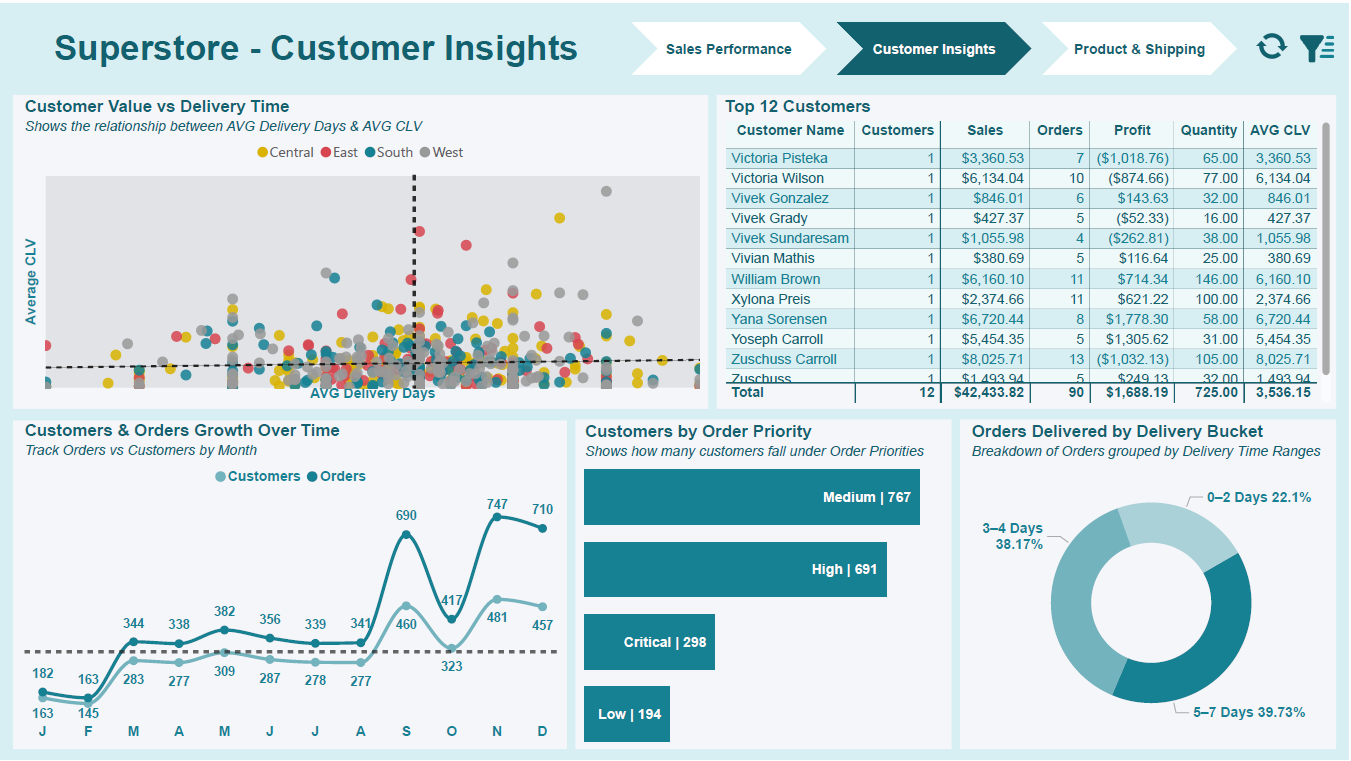

This screenshot's page, from the dashboard's own definition file:
{"tool":"powerbi","page":{"name":"Customer Insights","canvas":[1280,720],"ordinal":1},"visuals":[{"type":"pageNavigator","box":[598.8,17.9,575,50],"z":0},{"type":"shape","box":[13.1,8.3,569.1,69],"z":1000},{"type":"lineChart","title":"Customers & Orders Growth Over Time","fields":{"Y":["DAX.Customers","DAX.Orders"],"Category":["DateTable.Month Name"]},"box":[13.1,395.2,523.8,313.1],"z":2000},{"type":"clusteredBarChart","fields":{"Category":["Global_Superstore.Order Priority"],"Y":["DAX.Customers"]},"box":[545.3,395.5,358.4,312.8],"z":3000},{"type":"donutChart","title":"Orders Delivered by Delivery Bucket","fields":{"Y":["DAX.Orders"],"Category":["Global_Superstore.Delivery Bucket"]},"box":[912.1,395.5,356,312.8],"z":4000},{"type":"tableEx","title":"Top 12 Customers","fields":{"Values":["Global_Superstore.Customer Name","DAX.Customers","DAX.Sales","DAX.Orders","DAX.Profit","DAX.Quantity","DAX.Average CLV"]},"box":[678.4,87.5,589.7,296],"z":5000},{"type":"scatterChart","title":"Customer Value vs Delivery Time","fields":{"X":["DAX.AVG Delivery Days"],"Y":["DAX.Average CLV"],"Category":["Global_Superstore.City"],"Series":["Global_Superstore.Region"]},"box":[13.1,86.9,656,296.4],"z":6000},{"type":"image","box":[1186.9,17.9,40.5,45.2],"z":7000},{"type":"image","box":[1227.4,17.9,45.2,50],"z":8000}]}

Visuals, with their boxes in screenshot pixels (x1, y1, x2, y2), scaled from the page's 1280x720 canvas onto the 1351x761 screenshot:
pageNavigator: {"x1": 632, "y1": 19, "x2": 1239, "y2": 72}
shape: {"x1": 14, "y1": 9, "x2": 614, "y2": 82}
"Customers & Orders Growth Over Time" lineChart: {"x1": 14, "y1": 418, "x2": 567, "y2": 749}
clusteredBarChart - Global_Superstore.Order Priority x DAX.Customers: {"x1": 576, "y1": 418, "x2": 954, "y2": 749}
"Orders Delivered by Delivery Bucket" donutChart: {"x1": 963, "y1": 418, "x2": 1338, "y2": 749}
"Top 12 Customers" tableEx: {"x1": 716, "y1": 92, "x2": 1338, "y2": 405}
"Customer Value vs Delivery Time" scatterChart: {"x1": 14, "y1": 92, "x2": 706, "y2": 405}
image: {"x1": 1253, "y1": 19, "x2": 1295, "y2": 67}
image: {"x1": 1295, "y1": 19, "x2": 1343, "y2": 72}
